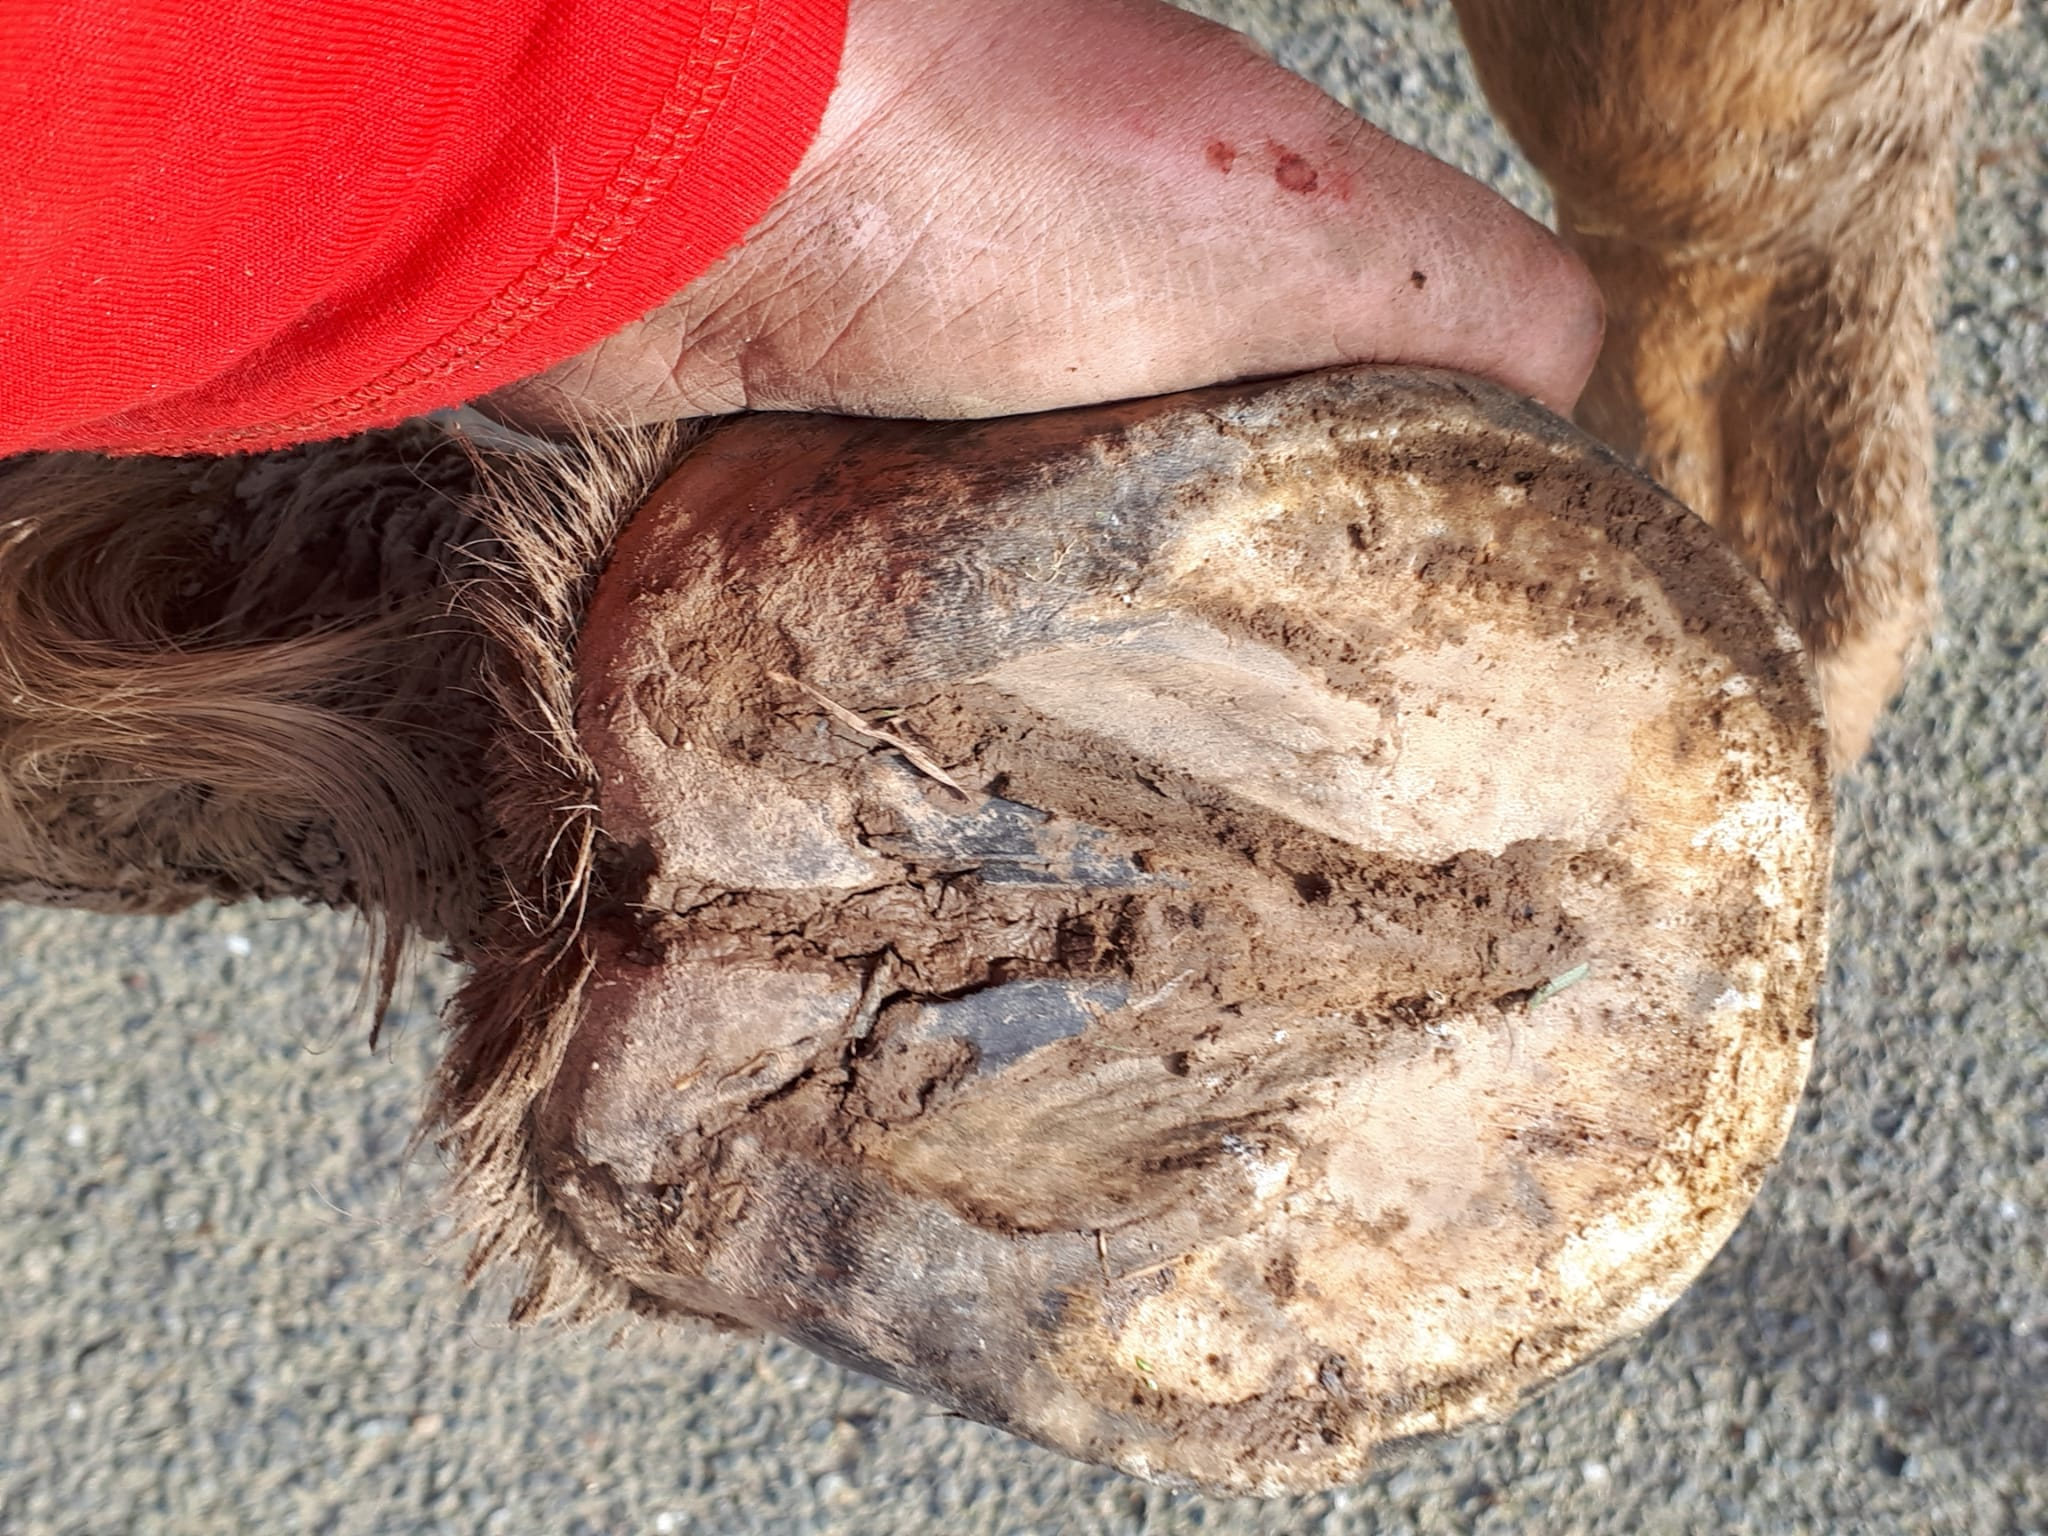horsesole: (814, 365, 1838, 1491)
